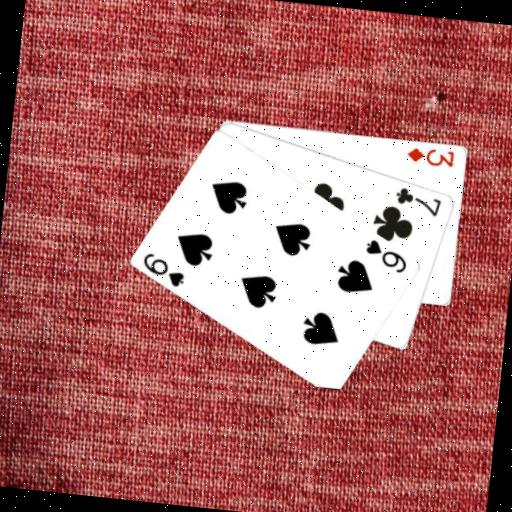3D: (403, 142, 456, 169)
6S: (138, 249, 189, 290), (362, 236, 412, 276)
7C: (392, 183, 445, 218)
